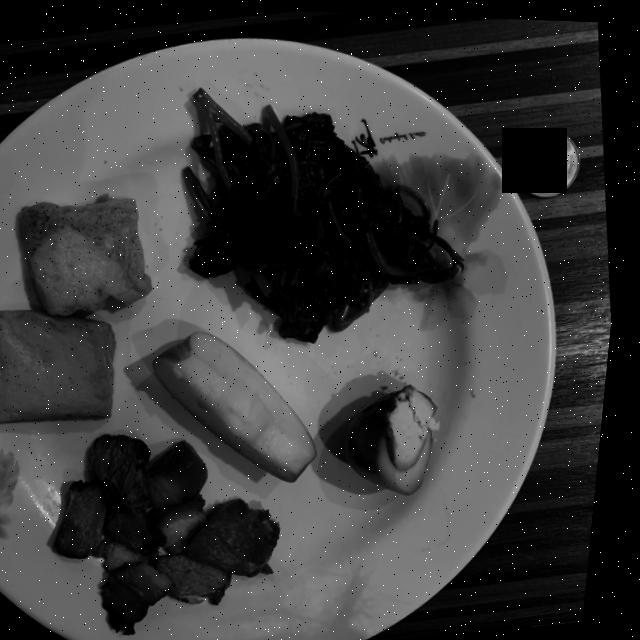apple -sliced-: (159, 330, 325, 480)
coin: (518, 127, 582, 193)
creamy tofu -without sauce-: (0, 194, 157, 423)
grilled pork: (65, 434, 289, 634)
soy egg: (352, 382, 447, 491)
sweet potato leaves: (190, 88, 467, 339)
